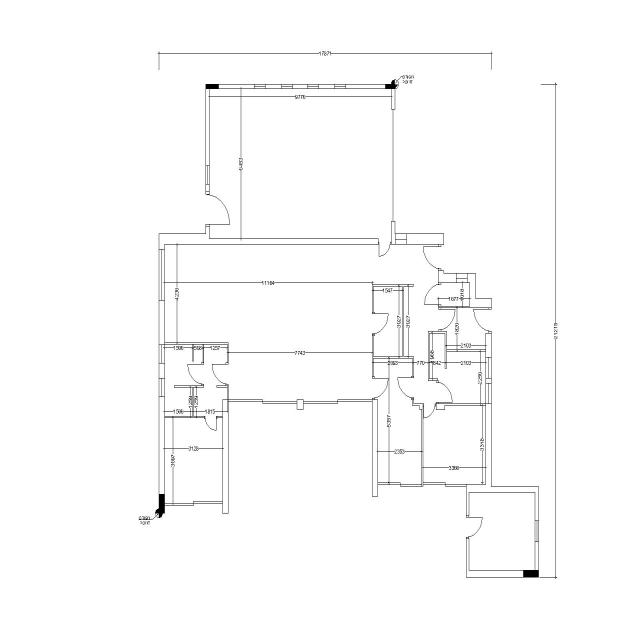Column: (159, 494, 165, 514), (523, 570, 539, 577), (206, 84, 218, 89), (385, 84, 395, 89)
Door: (206, 191, 230, 227), (422, 245, 442, 271), (473, 307, 492, 333), (438, 308, 456, 332), (424, 282, 441, 306), (187, 362, 204, 386), (372, 312, 389, 336), (372, 376, 389, 400), (466, 516, 483, 539), (436, 381, 453, 404), (212, 362, 228, 386), (398, 376, 414, 400), (378, 238, 392, 256), (423, 403, 436, 419), (204, 416, 217, 431)
Sliding Door: (228, 399, 297, 404), (304, 399, 372, 404), (165, 501, 222, 506), (378, 482, 422, 487), (423, 482, 466, 487)
Window: (159, 249, 165, 301), (395, 233, 407, 244), (486, 383, 492, 404), (486, 357, 492, 378), (159, 344, 165, 364), (456, 273, 468, 283), (159, 378, 165, 397), (535, 520, 539, 542), (206, 166, 210, 184), (254, 84, 266, 89), (281, 84, 293, 89), (307, 84, 319, 89), (334, 84, 346, 89)
